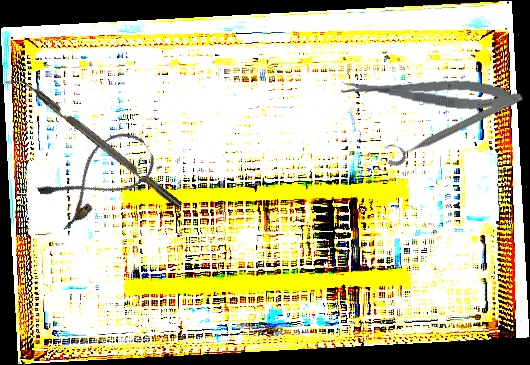Cannula: (35, 123, 162, 232)
Chopper: (5, 68, 183, 218)
Fixation Ring: (379, 81, 526, 170)
Micro Scissor: (340, 69, 519, 114)
